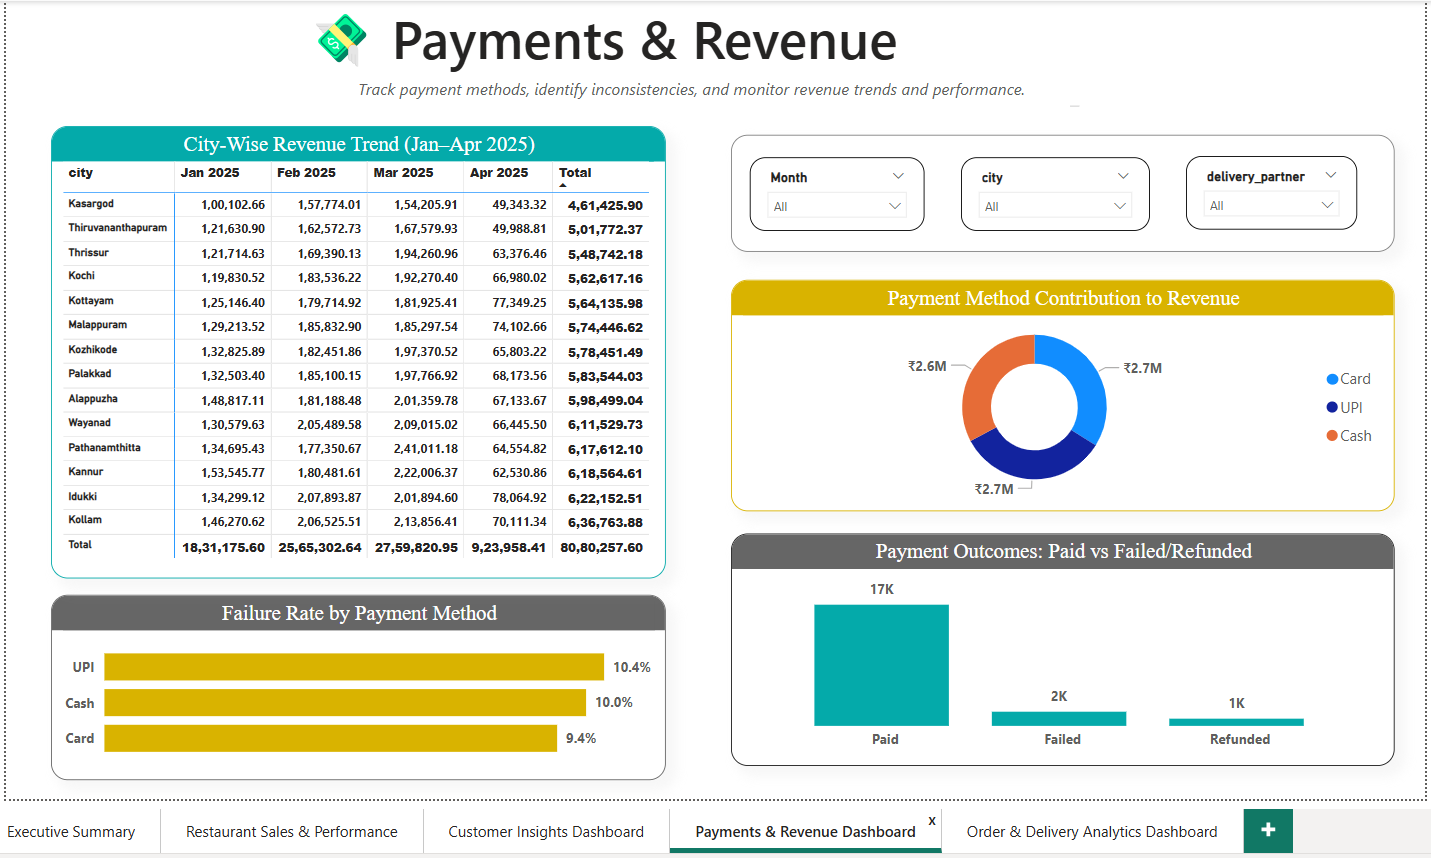

The dashboard page shown, as its layout file describes it:
{"tool":"powerbi","page":{"name":"Payments & Revenue Dashboard","canvas":[1280,720],"ordinal":3},"visuals":[{"type":"shape","box":[653.7,120.6,598.5,105.9],"z":0},{"type":"textbox","title":"💸 Payments & Revenue","box":[263.7,0,709,99.2],"z":1000},{"type":"donutChart","title":"Payment Method Contribution to Revenue","fields":{"Y":["DAX Table.Total Revenue"],"Category":["public payments.payment_method"]},"box":[653.7,251.3,598.5,208.5],"z":2000},{"type":"barChart","title":"Failure Rate by Payment Method","fields":{"Category":["public payments.payment_method"],"Y":["DAX Table.Payment Failure Rate"]},"box":[40.6,535.4,554.5,166.8],"z":3000},{"type":"columnChart","title":"Payment Outcomes: Paid vs Failed/Refunded","fields":{"Category":["public payments.payment_status"],"Y":["CountNonNull(public payments.payment_method)"]},"box":[653.7,480.2,598.5,209.6],"z":4000},{"type":"slicer","fields":{"Values":["public orders.order_datetime.Variation.Date Hierarchy.Month"]},"box":[670.6,140.9,157.8,66.5],"z":5000},{"type":"slicer","fields":{"Values":["public customers.city"]},"box":[861.1,140.9,170.2,66.5],"z":6000},{"type":"slicer","fields":{"Values":["public delivery.delivery_partner"]},"box":[1064,139.8,154.4,66.5],"z":7000},{"type":"pivotTable","title":"City-Wise Revenue Trend (Jan–Apr 2025)","fields":{"Values":["DAX Table.Monthly Revenue"],"Rows":["public customers.city"],"Columns":["public orders.Month_Year"]},"box":[40.4,112.5,554,408.3],"z":8000}]}

Visuals, with their boxes on the page's 1280x720 design canvas (x1, y1, x2, y2). These are canvas units, not pixel positions in the 1431x858 screenshot, which may show the page scaled, cropped or inside an application window:
shape: crop(654, 121, 1252, 226)
"💸 Payments & Revenue" textbox: crop(264, 0, 973, 99)
"Payment Method Contribution to Revenue" donutChart: crop(654, 251, 1252, 460)
"Failure Rate by Payment Method" barChart: crop(41, 535, 595, 702)
"Payment Outcomes: Paid vs Failed/Refunded" columnChart: crop(654, 480, 1252, 690)
slicer - public orders.order_datetime.Variation.Date Hierarchy.Month: crop(671, 141, 828, 207)
slicer - public customers.city: crop(861, 141, 1031, 207)
slicer - public delivery.delivery_partner: crop(1064, 140, 1218, 206)
"City-Wise Revenue Trend (Jan–Apr 2025)" pivotTable: crop(40, 112, 594, 521)
